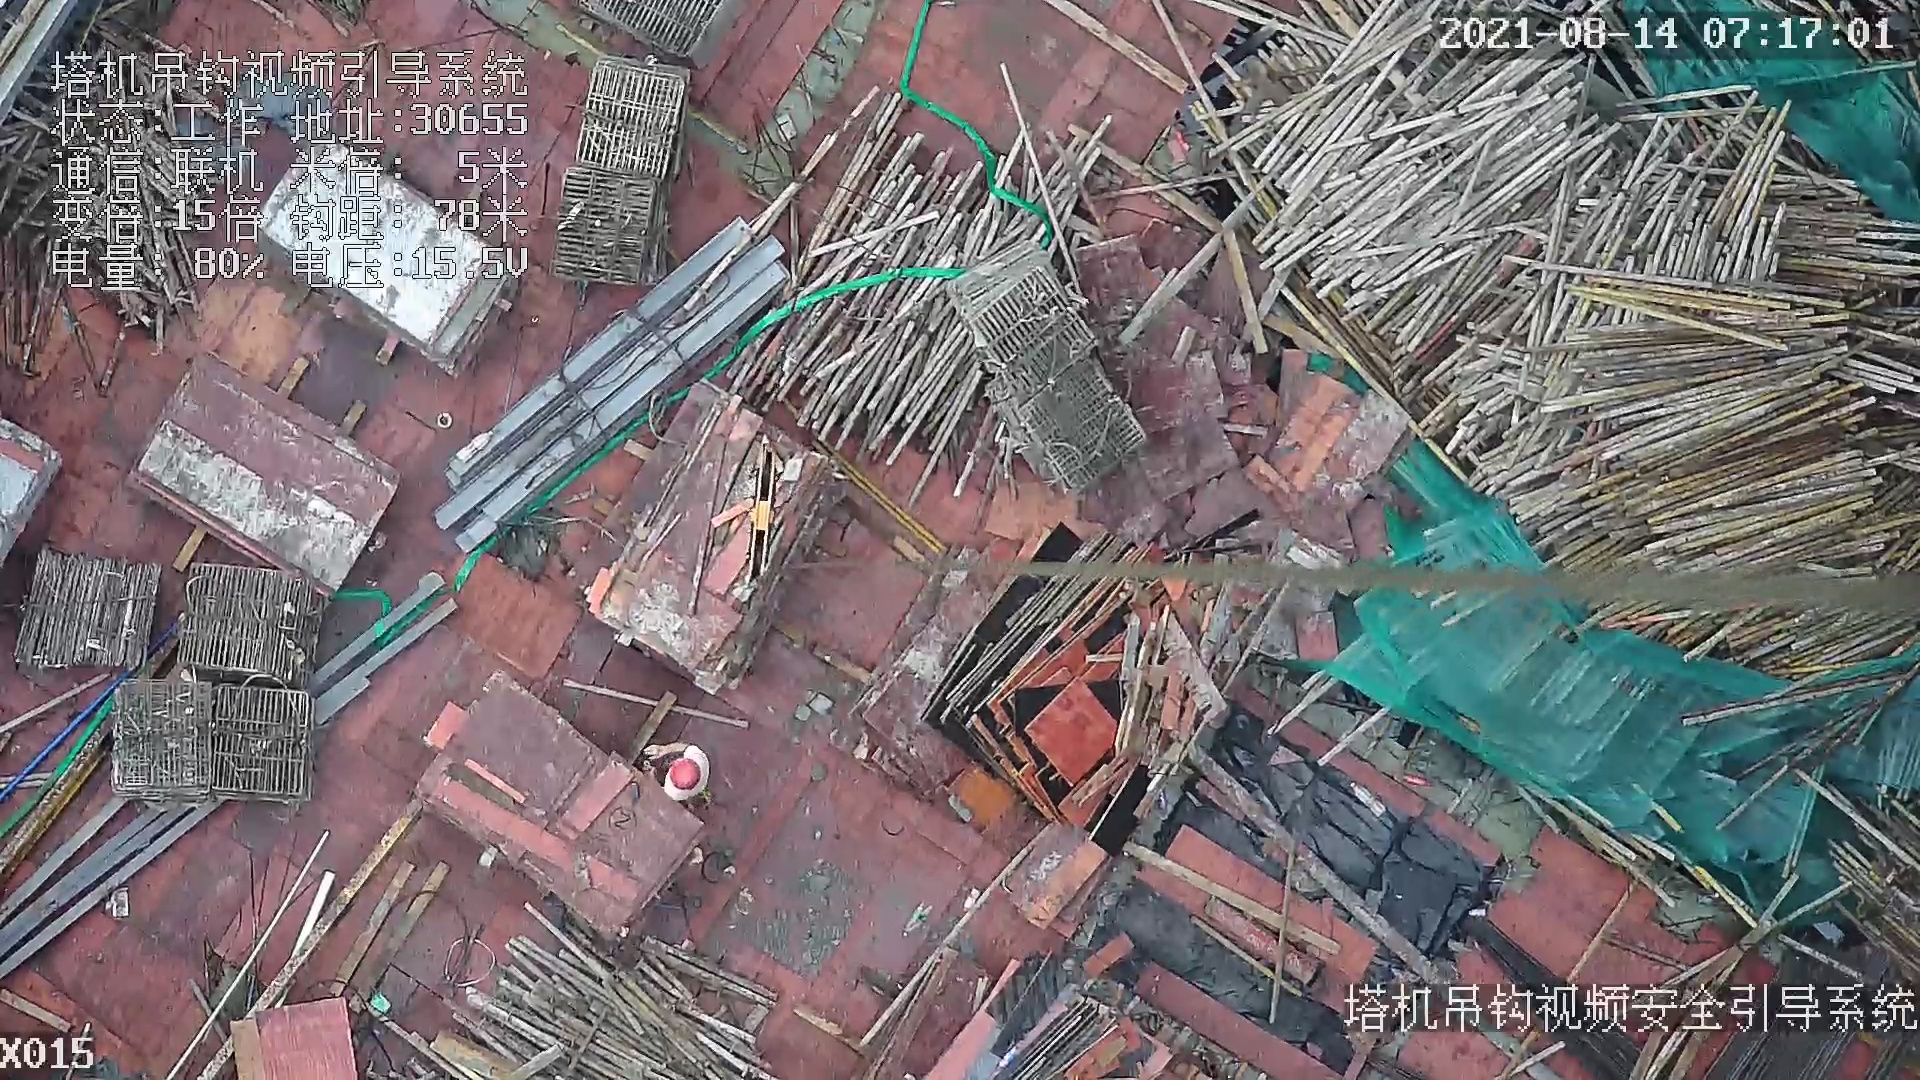helmet: (669, 756, 707, 791)
hook: (740, 437, 779, 594)
person: (641, 746, 704, 808)
